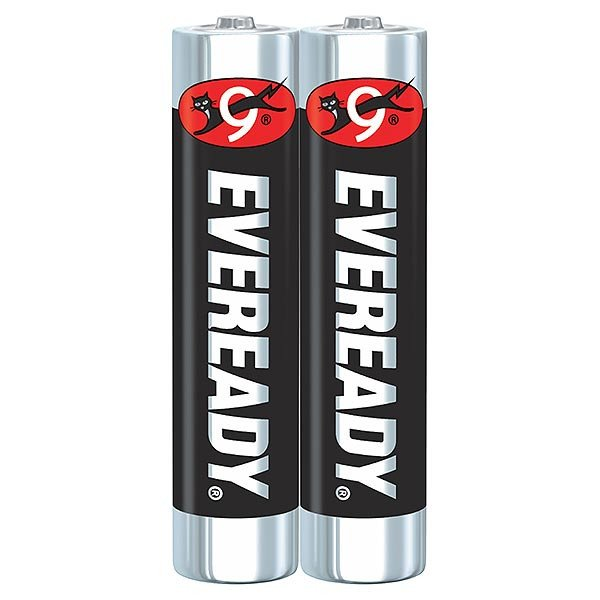Battery: (168, 14, 300, 585), (299, 14, 428, 586)
